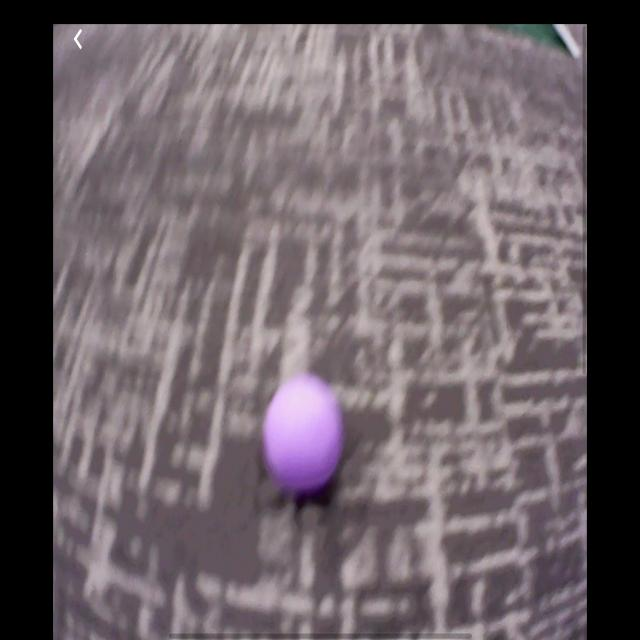ball: (265, 372, 342, 491)
